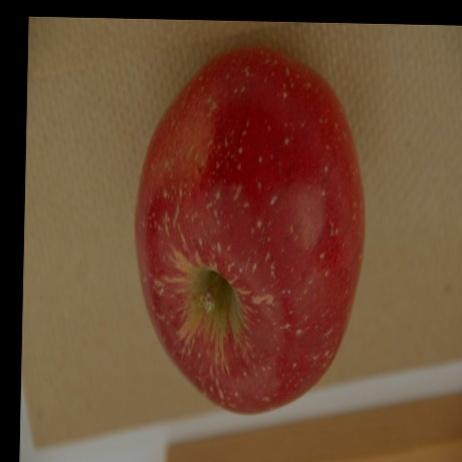red apple: (132, 46, 368, 416)
